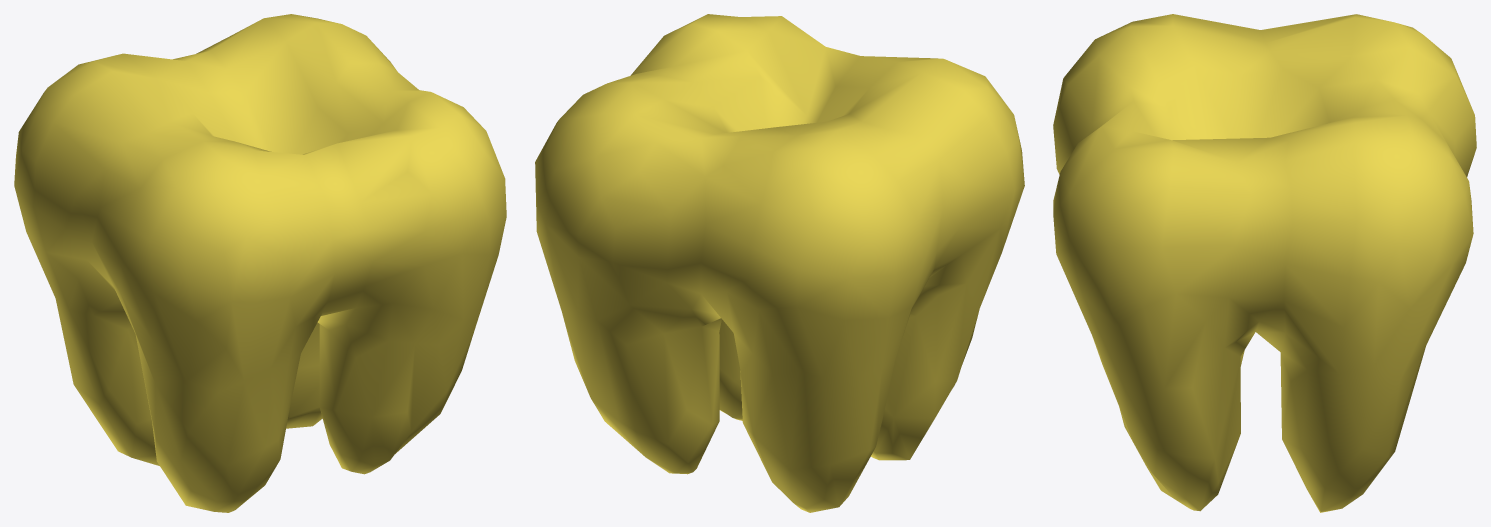
The model's file is Tooth.fbx.
The picture shows the model from 3 angles, left to right: view 1: azimuth 30°, elevation 25°; view 2: azimuth 150°, elevation 25°; view 3: azimuth 270°, elevation 25°; orthographic projection. The views are drawn at different scales.
Visible parts, largest first — view 1: Mball.009; view 2: Mball.009; view 3: Mball.009.
Part boxes in pixels (box(x1,y1,x2,y2)): Mball.009: box(14, 14, 506, 512); Mball.009: box(535, 14, 1024, 512); Mball.009: box(1053, 14, 1476, 512).
Bounding box in the file's own units: 621 × 629 × 589.
